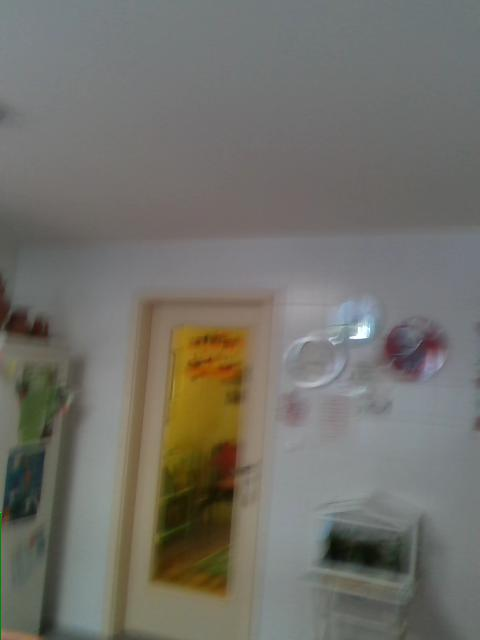door: (99, 291, 275, 639)
